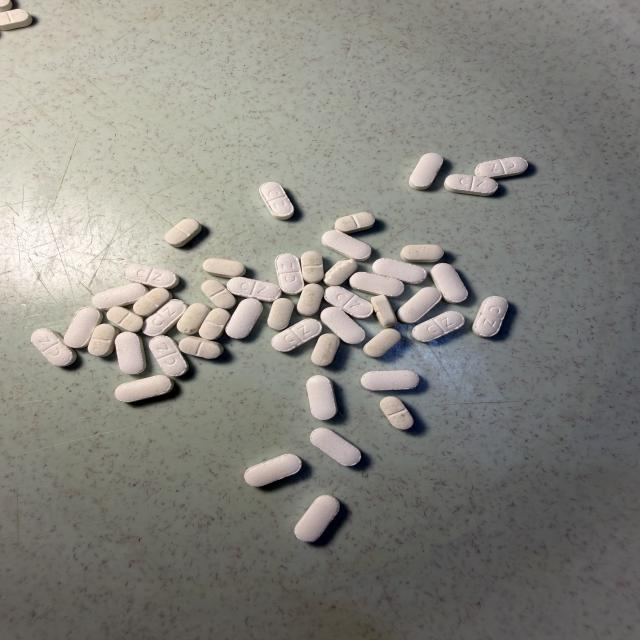pill: (295, 495, 339, 542), (311, 428, 361, 466), (244, 454, 301, 486), (142, 298, 188, 336), (272, 318, 322, 352), (31, 329, 76, 366), (321, 307, 365, 344), (397, 287, 441, 323), (115, 375, 173, 402), (412, 311, 464, 341), (149, 336, 188, 376), (430, 263, 468, 303), (64, 308, 102, 348), (225, 298, 262, 339), (325, 287, 373, 318), (322, 230, 371, 260), (473, 296, 508, 337), (92, 284, 147, 310), (349, 272, 404, 297), (125, 264, 179, 289), (372, 259, 426, 284), (307, 375, 337, 419), (115, 332, 146, 374), (227, 277, 281, 301), (260, 182, 293, 219), (410, 153, 443, 189), (445, 174, 498, 196), (361, 370, 419, 390), (275, 254, 304, 294), (133, 288, 172, 317), (475, 157, 528, 178), (363, 329, 401, 357), (380, 397, 413, 429), (177, 303, 210, 334), (179, 336, 223, 359), (165, 219, 201, 247), (88, 324, 119, 356), (201, 280, 235, 309), (323, 259, 358, 286), (199, 309, 230, 339), (107, 307, 144, 332), (312, 334, 339, 366), (297, 284, 324, 316), (335, 212, 375, 233), (371, 296, 397, 328), (268, 298, 293, 330), (203, 259, 245, 278), (301, 251, 324, 283), (401, 245, 443, 262), (0, 9, 32, 30), (0, 0, 12, 11)
